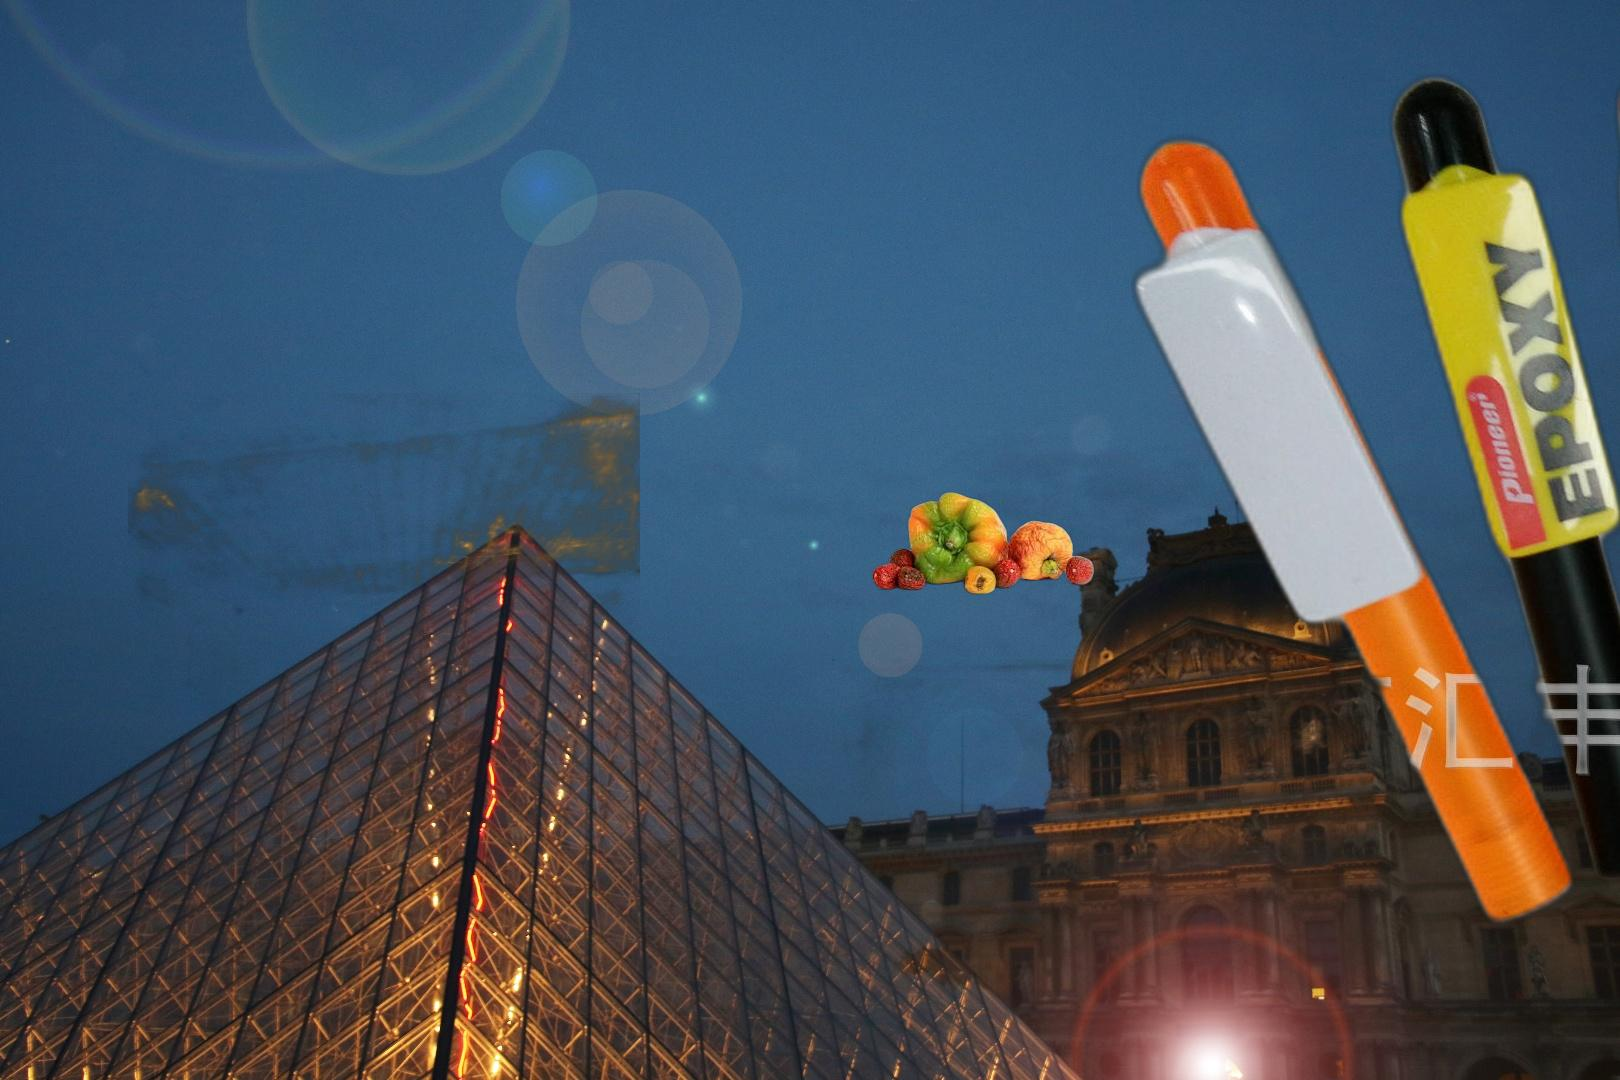biological: (870, 489, 1097, 597)
metal-cans: (1257, 856, 1620, 1080)
penholder: (1121, 27, 1620, 1080)
trashbox-cardboard: (128, 393, 640, 777), (832, 659, 1344, 1043)
